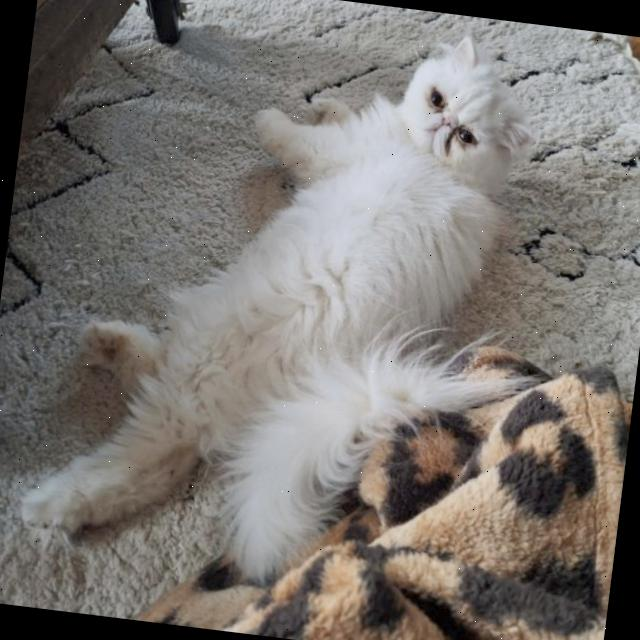persian_cat: (374, 18, 558, 208)
